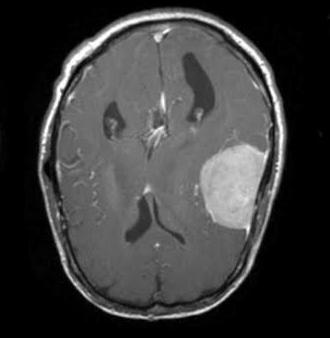Tumour-Meningioma: (177, 141, 277, 235)
